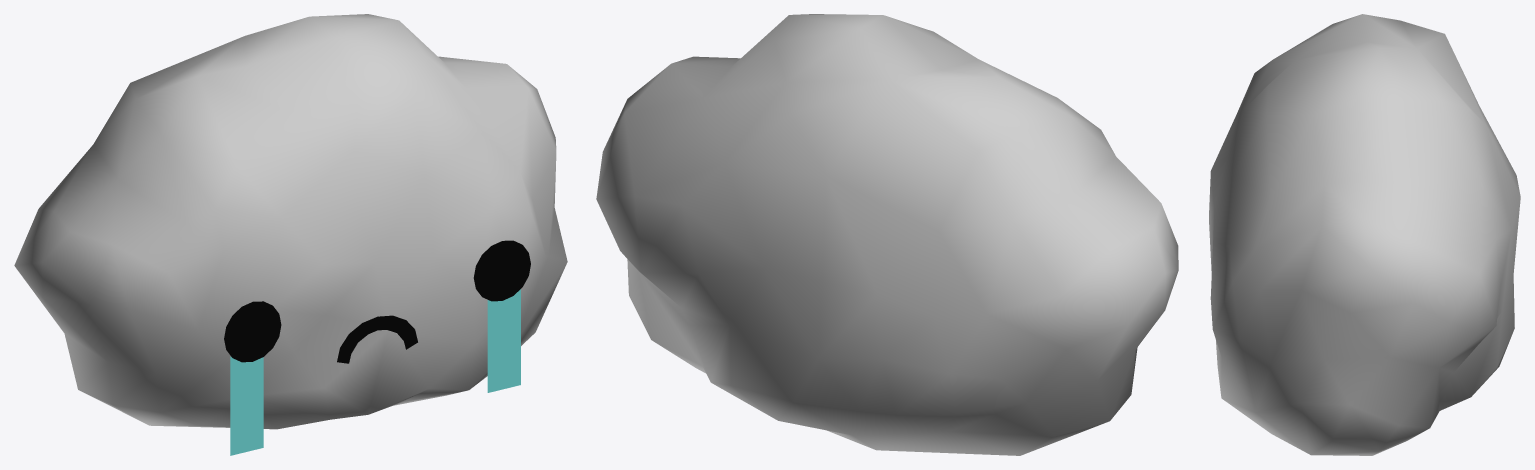
File: clouse_sad_raining.fbx
The picture shows the model from 3 angles, left to right: view 1: azimuth 30°, elevation 25°; view 2: azimuth 150°, elevation 25°; view 3: azimuth 270°, elevation 25°; orthographic projection. The views are drawn at different scales.
Parts seen in each view (by area): view 1: Icosphere.001, Circle.002; view 2: Icosphere.001; view 3: Icosphere.001.
Boxes of the visible parts, <box> form: Icosphere.001: <box>14,14,567,429</box>; Circle.002: <box>224,240,530,455</box>; Icosphere.001: <box>596,14,1178,455</box>; Icosphere.001: <box>1209,14,1520,455</box>.
Bounding box in the file's own units: 64.12 × 43.54 × 36.03.
